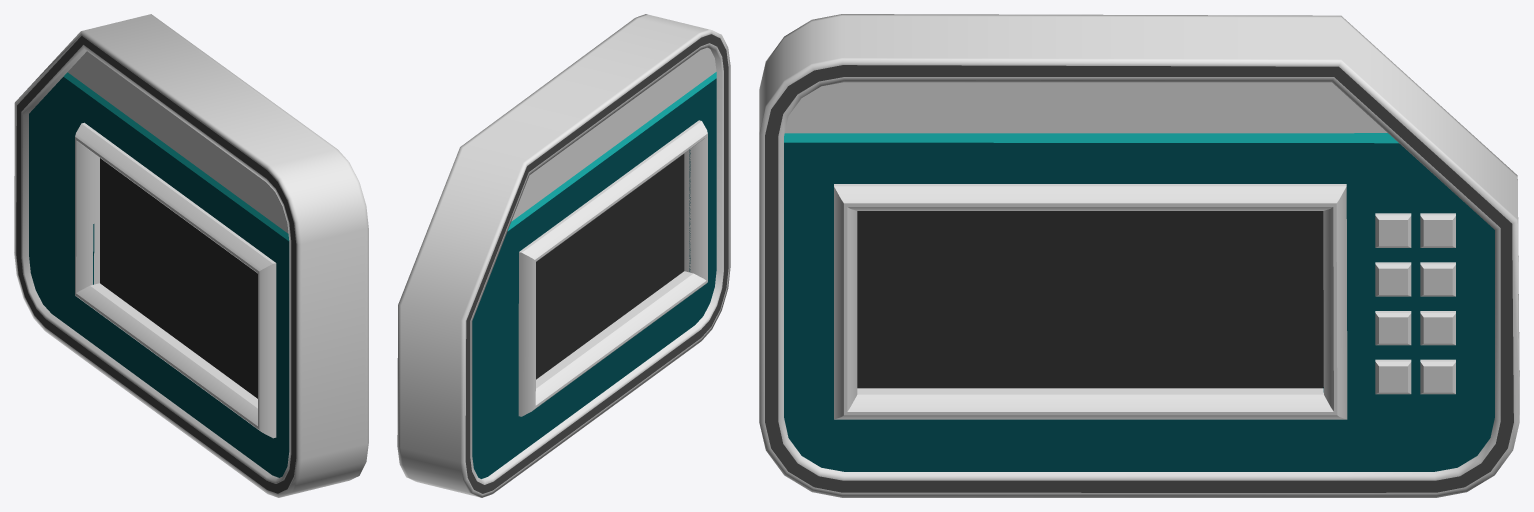
Rendered from DigiLog.fbx.
3 renders of one model, left to right at view 1: azimuth 30°, elevation 25°; view 2: azimuth 150°, elevation 25°; view 3: azimuth 270°, elevation 25°, orthographic. The views are drawn at different scales.
Visible parts, largest first — view 1: DigiLog; view 2: DigiLog; view 3: DigiLog.
Part boxes in pixels (x1,y1,x2,y2): DigiLog: [14, 14, 368, 497]; DigiLog: [397, 14, 730, 497]; DigiLog: [759, 14, 1519, 497].
Size of the model in its own units: 9.28 by 34.02 by 53.51.
